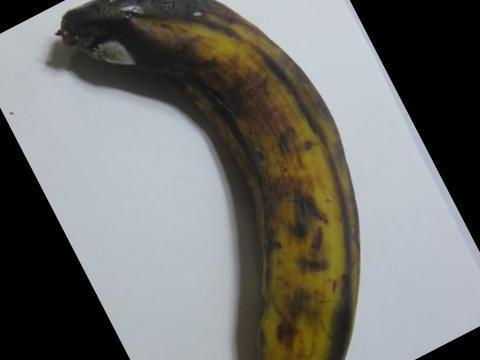overripe: (46, 0, 361, 359)
rotten: (60, 0, 213, 90)
